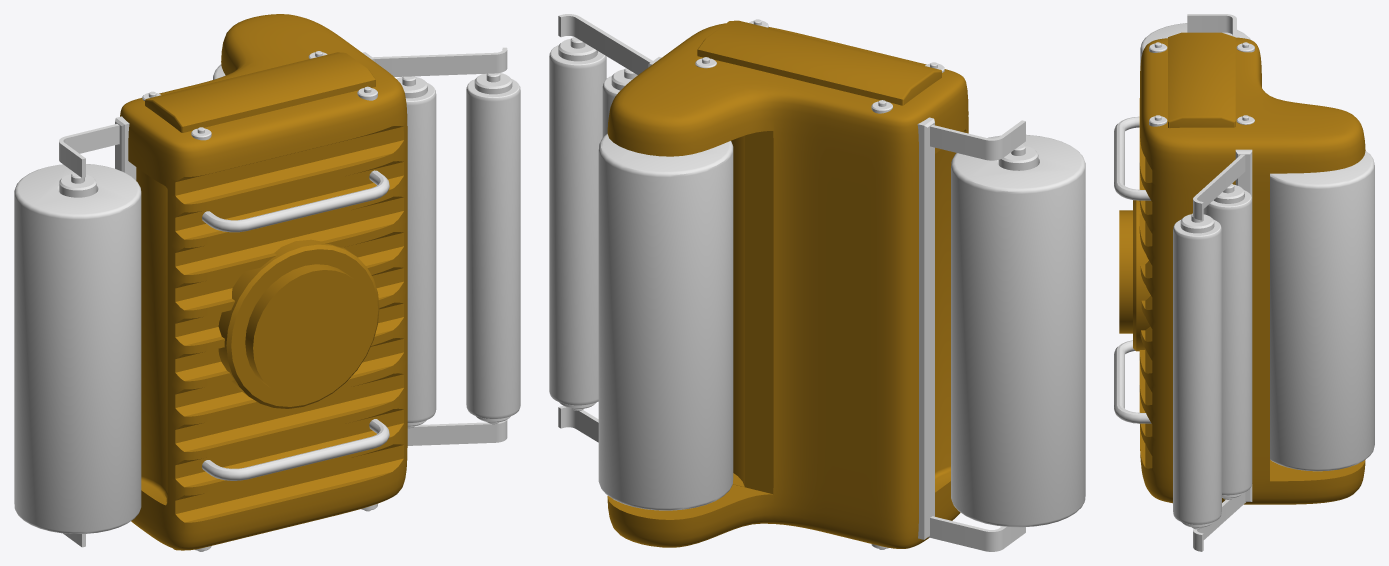
Rendered from Wrapper_Mach.fbx.
3 renders of one model, left to right at view 1: azimuth 30°, elevation 25°; view 2: azimuth 150°, elevation 25°; view 3: azimuth 270°, elevation 25°, orthographic. The views are drawn at different scales.
Visible parts, largest first — view 1: Wrapper_Mach; view 2: Wrapper_Mach; view 3: Wrapper_Mach.
Part boxes in pixels (box(x1,y1,x2,y2)): Wrapper_Mach: box(14, 14, 520, 551); Wrapper_Mach: box(549, 14, 1085, 551); Wrapper_Mach: box(1114, 14, 1374, 551).
Size of the model in its own units: 0.6347 by 0.5331 by 0.3232.
